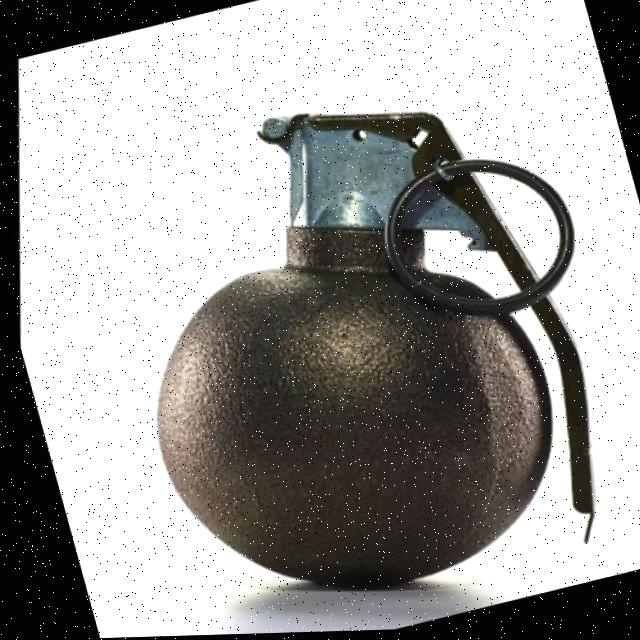grenade: (2, 0, 640, 640)
